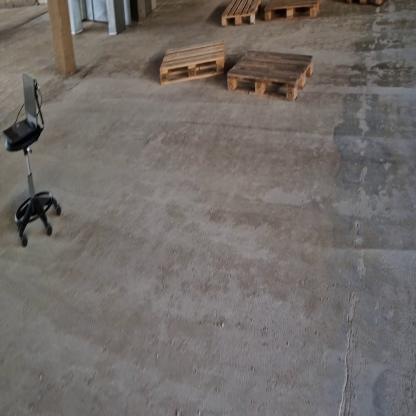BoxFace: (225, 48, 316, 108), (156, 33, 227, 90), (263, 0, 325, 22)
